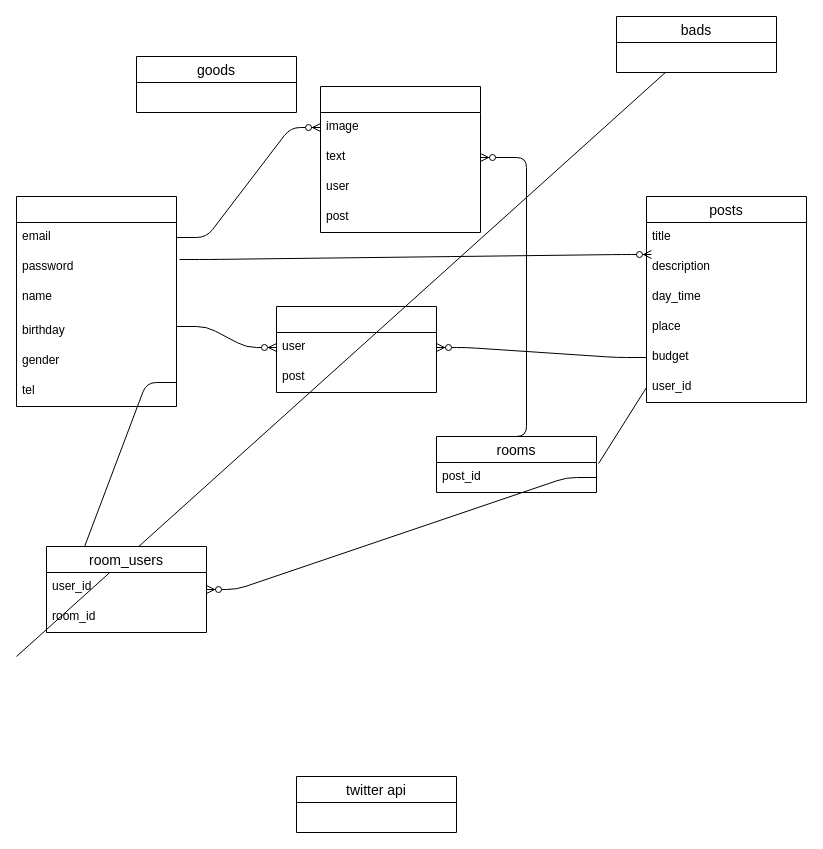
The diagram is 823 pixels wide and 849 high, and some of its shapes have lost their labels. Each missing label, with the box of its shape:
favorites: (276, 306, 436, 392)
messages: (320, 86, 480, 232)
users: (16, 196, 176, 406)
